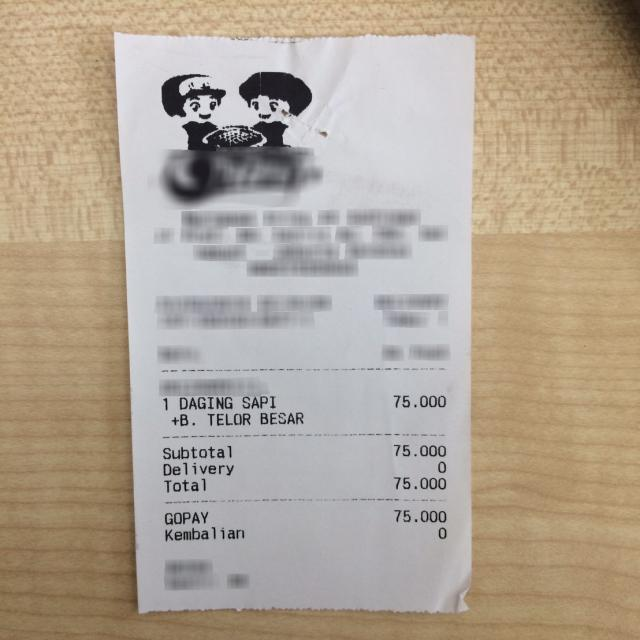kertas: (114, 34, 475, 613)
